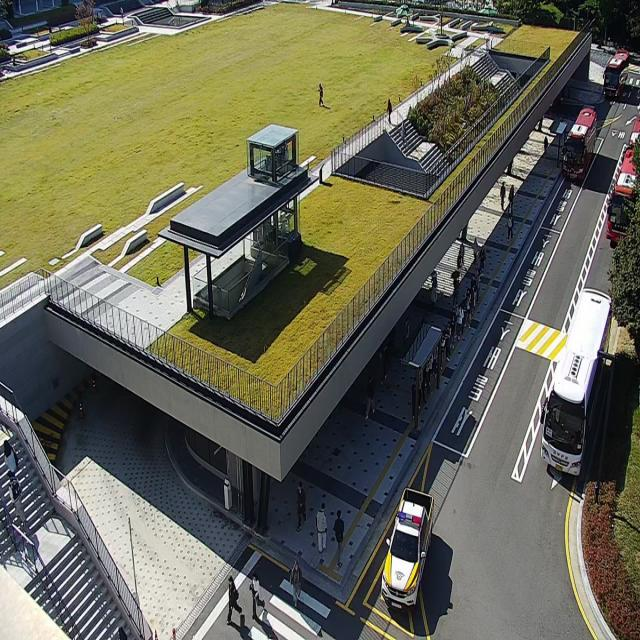queue: (416, 266, 479, 431)
